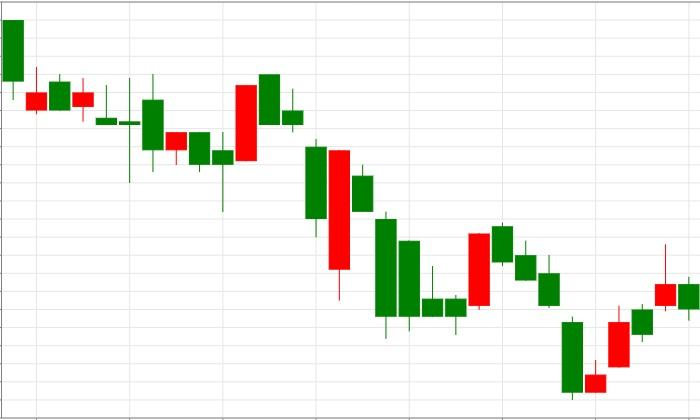inverse_hammer_rise: (259, 73, 444, 338)
shooting_star_fall: (562, 244, 677, 400)
